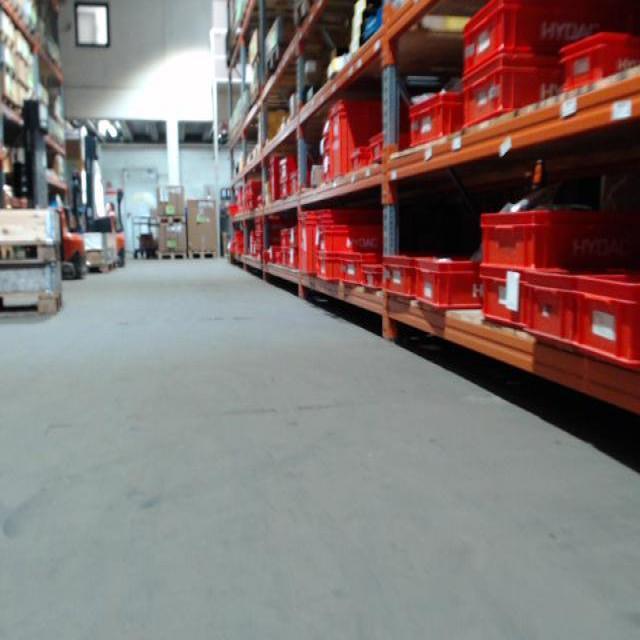pallet: (0, 290, 65, 323), (0, 239, 61, 265), (292, 0, 316, 29), (265, 46, 287, 75), (187, 248, 219, 260), (2, 95, 19, 114), (157, 250, 186, 261), (156, 215, 187, 225)
pallet_truck: (26, 98, 85, 282), (81, 128, 129, 261)
small_load_carrier: (456, 5, 612, 84), (478, 199, 635, 268), (458, 62, 571, 130), (574, 262, 639, 368), (568, 26, 640, 108), (518, 268, 578, 347), (327, 93, 379, 179), (417, 253, 485, 312), (306, 212, 364, 279), (477, 267, 532, 329), (312, 223, 391, 254), (406, 85, 454, 136), (384, 245, 426, 302), (363, 130, 406, 163), (342, 249, 366, 287), (366, 260, 388, 291), (318, 259, 341, 285), (278, 154, 301, 180), (348, 147, 366, 177), (319, 157, 337, 181), (278, 181, 294, 205), (319, 135, 336, 157), (289, 242, 302, 267), (319, 117, 336, 135), (290, 225, 301, 246), (280, 225, 290, 246), (280, 249, 290, 270)
